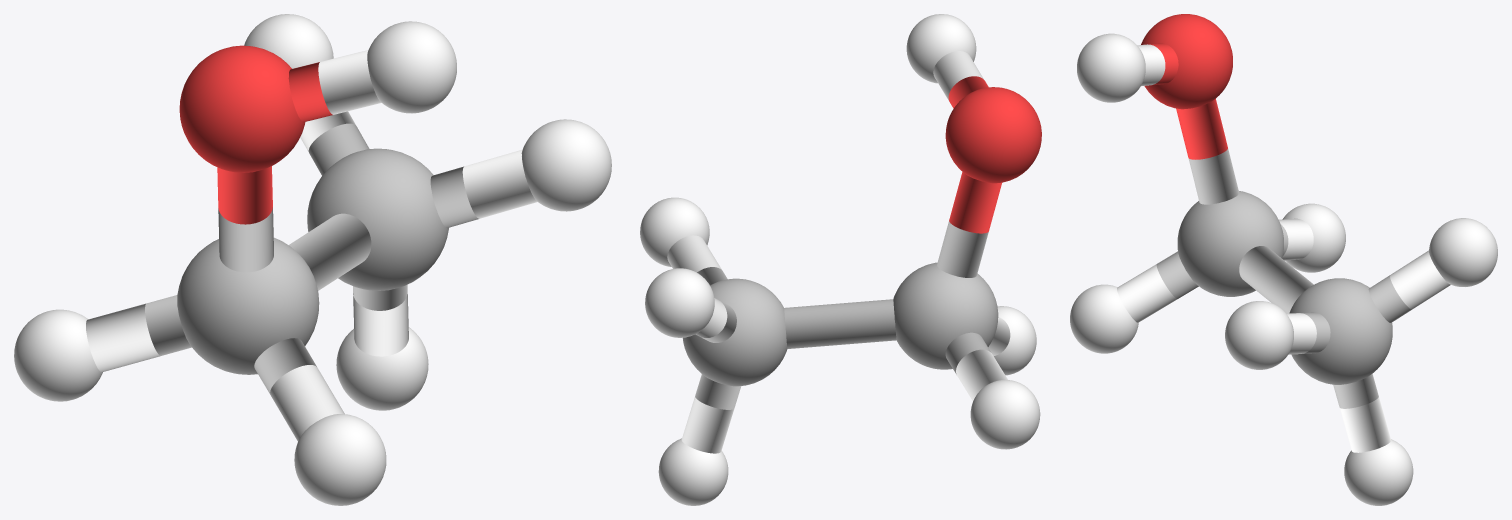
File: ethanol.glb
3 renders of one model, left to right at view 1: azimuth 30°, elevation 25°; view 2: azimuth 150°, elevation 25°; view 3: azimuth 270°, elevation 25°, orthographic. The views are drawn at different scales.
Parts seen in each view (by area): view 1: Object_4, Object_2, Object_3; view 2: Object_4, Object_2, Object_3; view 3: Object_4, Object_2, Object_3.
Boxes of the visible parts, bbox=[...] form: Object_4: bbox=[14, 14, 611, 505]; Object_2: bbox=[145, 123, 478, 394]; Object_3: bbox=[179, 45, 332, 224]; Object_4: bbox=[640, 14, 1040, 505]; Object_2: bbox=[682, 221, 998, 409]; Object_3: bbox=[945, 76, 1041, 233]; Object_4: bbox=[1070, 33, 1497, 505]; Object_2: bbox=[1156, 148, 1411, 408]; Object_3: bbox=[1141, 14, 1232, 159].
Bounding box in the file's own units: 3.49 × 3.31 × 3.13.
